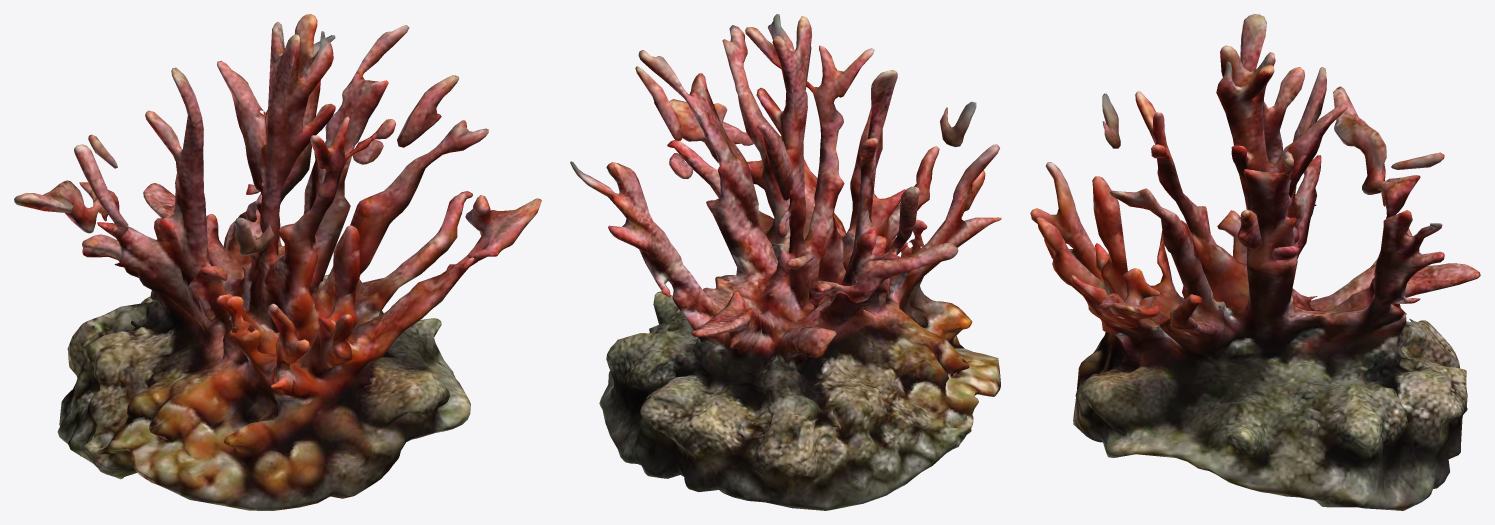
The model's file is coral_l.glb.
The picture shows the model from 3 angles, left to right: view 1: azimuth 30°, elevation 25°; view 2: azimuth 150°, elevation 25°; view 3: azimuth 270°, elevation 25°; orthographic projection. The views are drawn at different scales.
Visible parts, largest first — view 1: Object_4; view 2: Object_4; view 3: Object_4.
Boxes of the visible parts, bbox=[...] form: Object_4: bbox=[14, 14, 541, 510]; Object_4: bbox=[570, 14, 1001, 510]; Object_4: bbox=[1030, 14, 1480, 510].
Bounding box in the file's own units: 1.54 × 1.51 × 1.47.
Materials: 1 (1 with a texture image).
